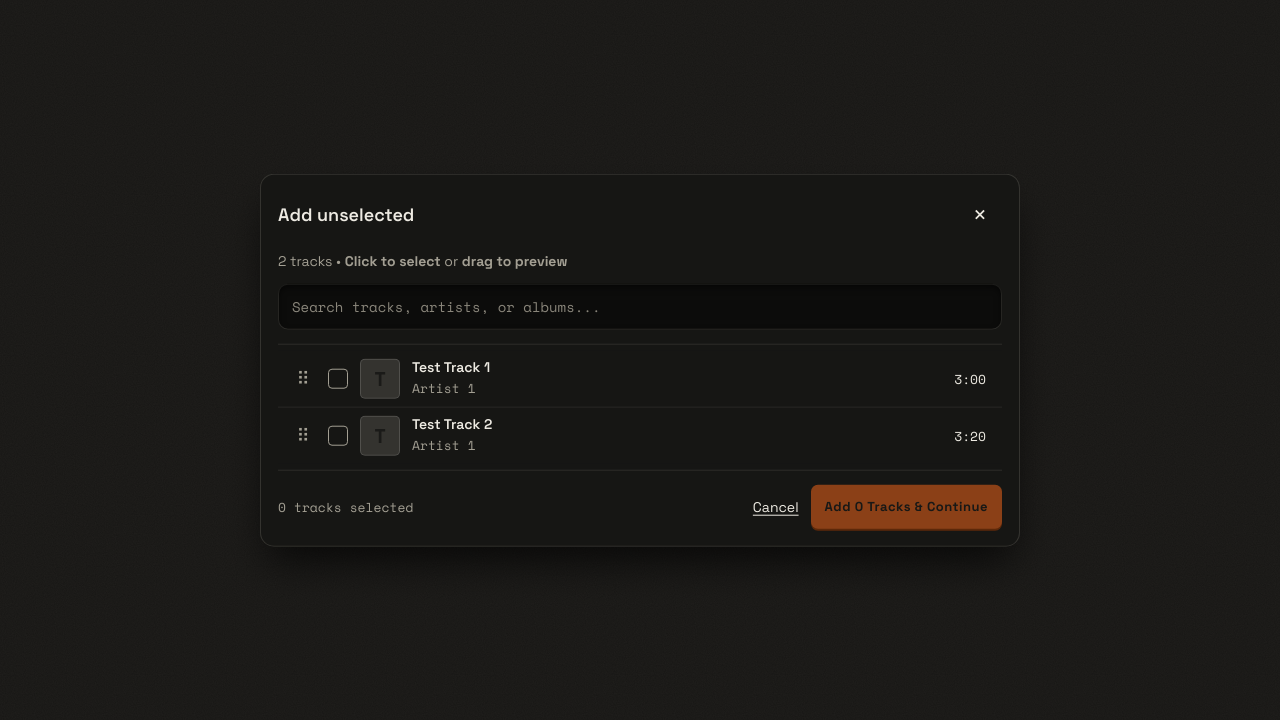
it: AddUnselectedModal › clears selected tracks after adding
Expected: the element with test id "track-list" is shown, [278,344,1002,469]
# Select a track
Click the list item with test id "track-item-track1". click: (380,378)
box: [320,350,1002,406]
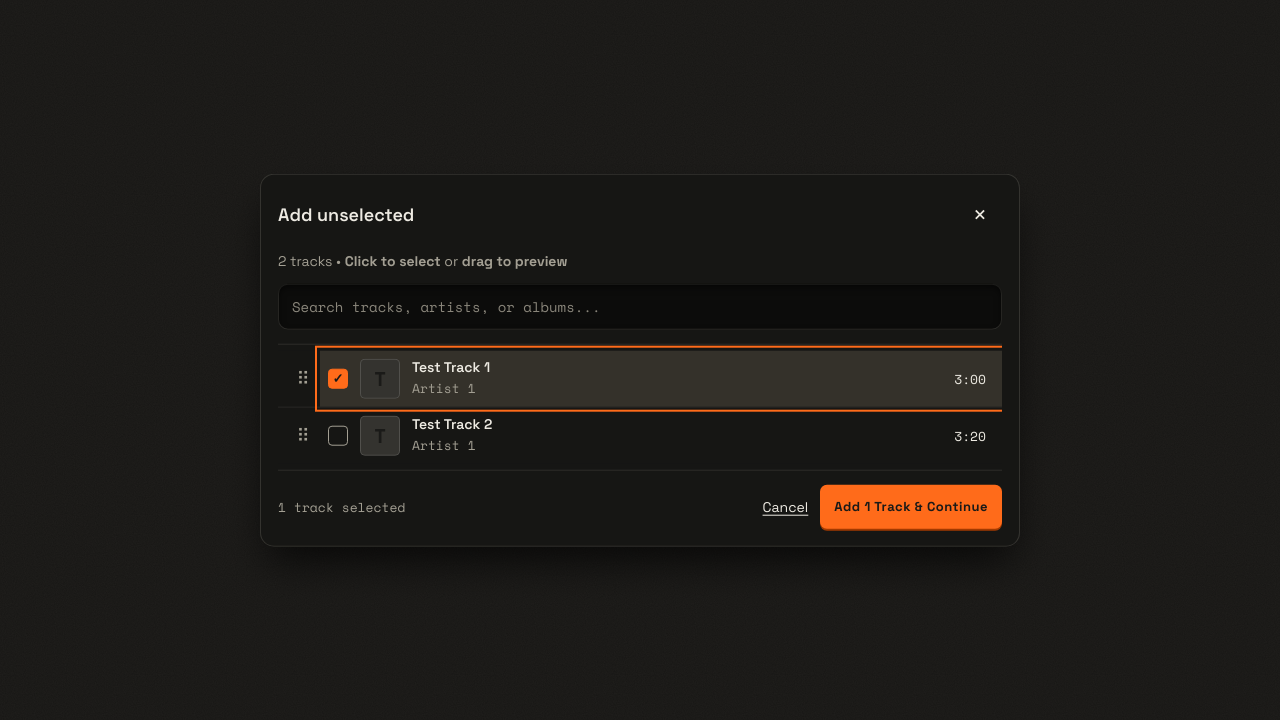
Now the text "1 track selected" is shown, box [278,496,405,516]
Click the button "Add 1 Track & Continue". click: (911,506)
box: [820,484,1002,528]
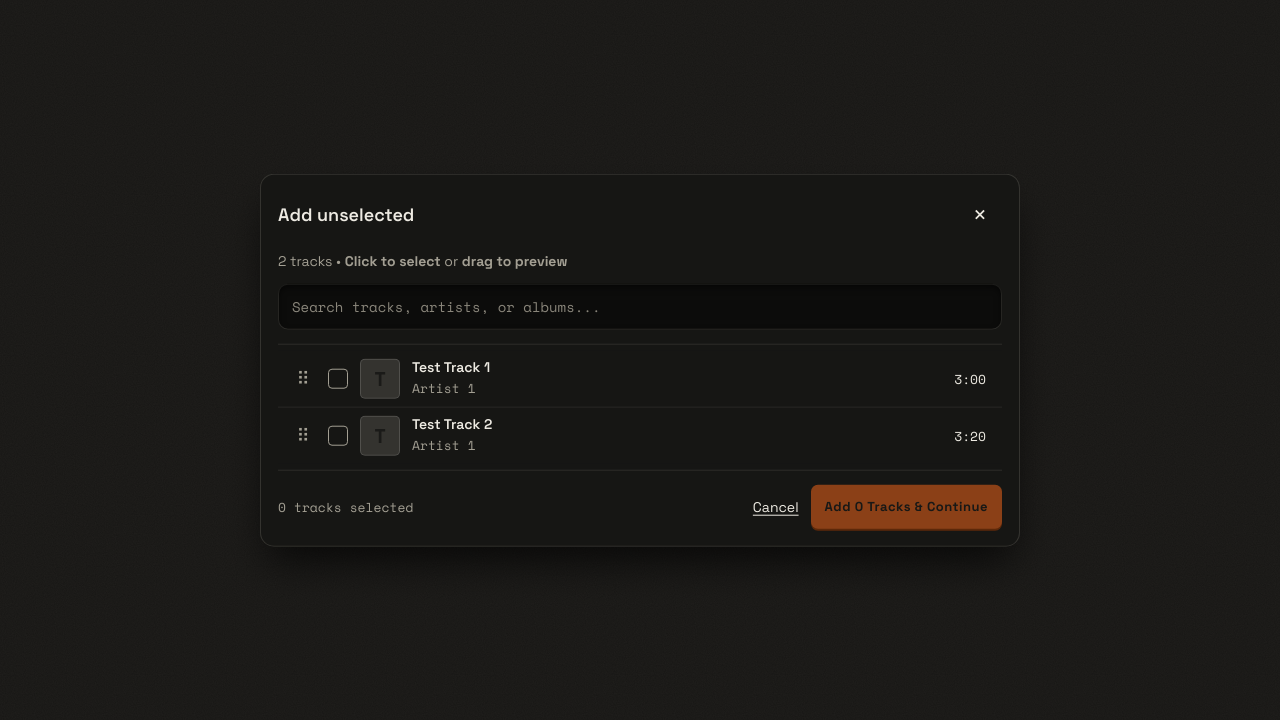
Now the text "0 tracks selected" is shown, box [278,496,413,516]
